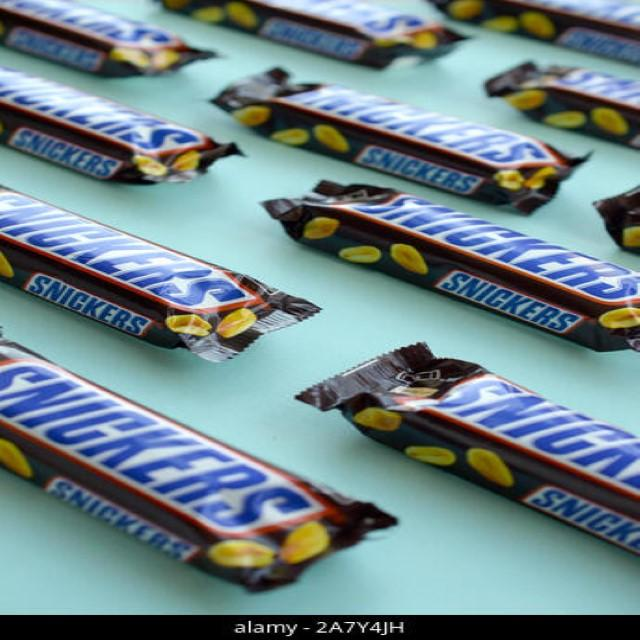snickers_chocolate: (3, 380, 327, 588), (342, 175, 638, 383), (0, 205, 235, 365), (391, 384, 640, 533), (298, 73, 545, 210), (0, 90, 225, 187), (5, 0, 191, 108)
